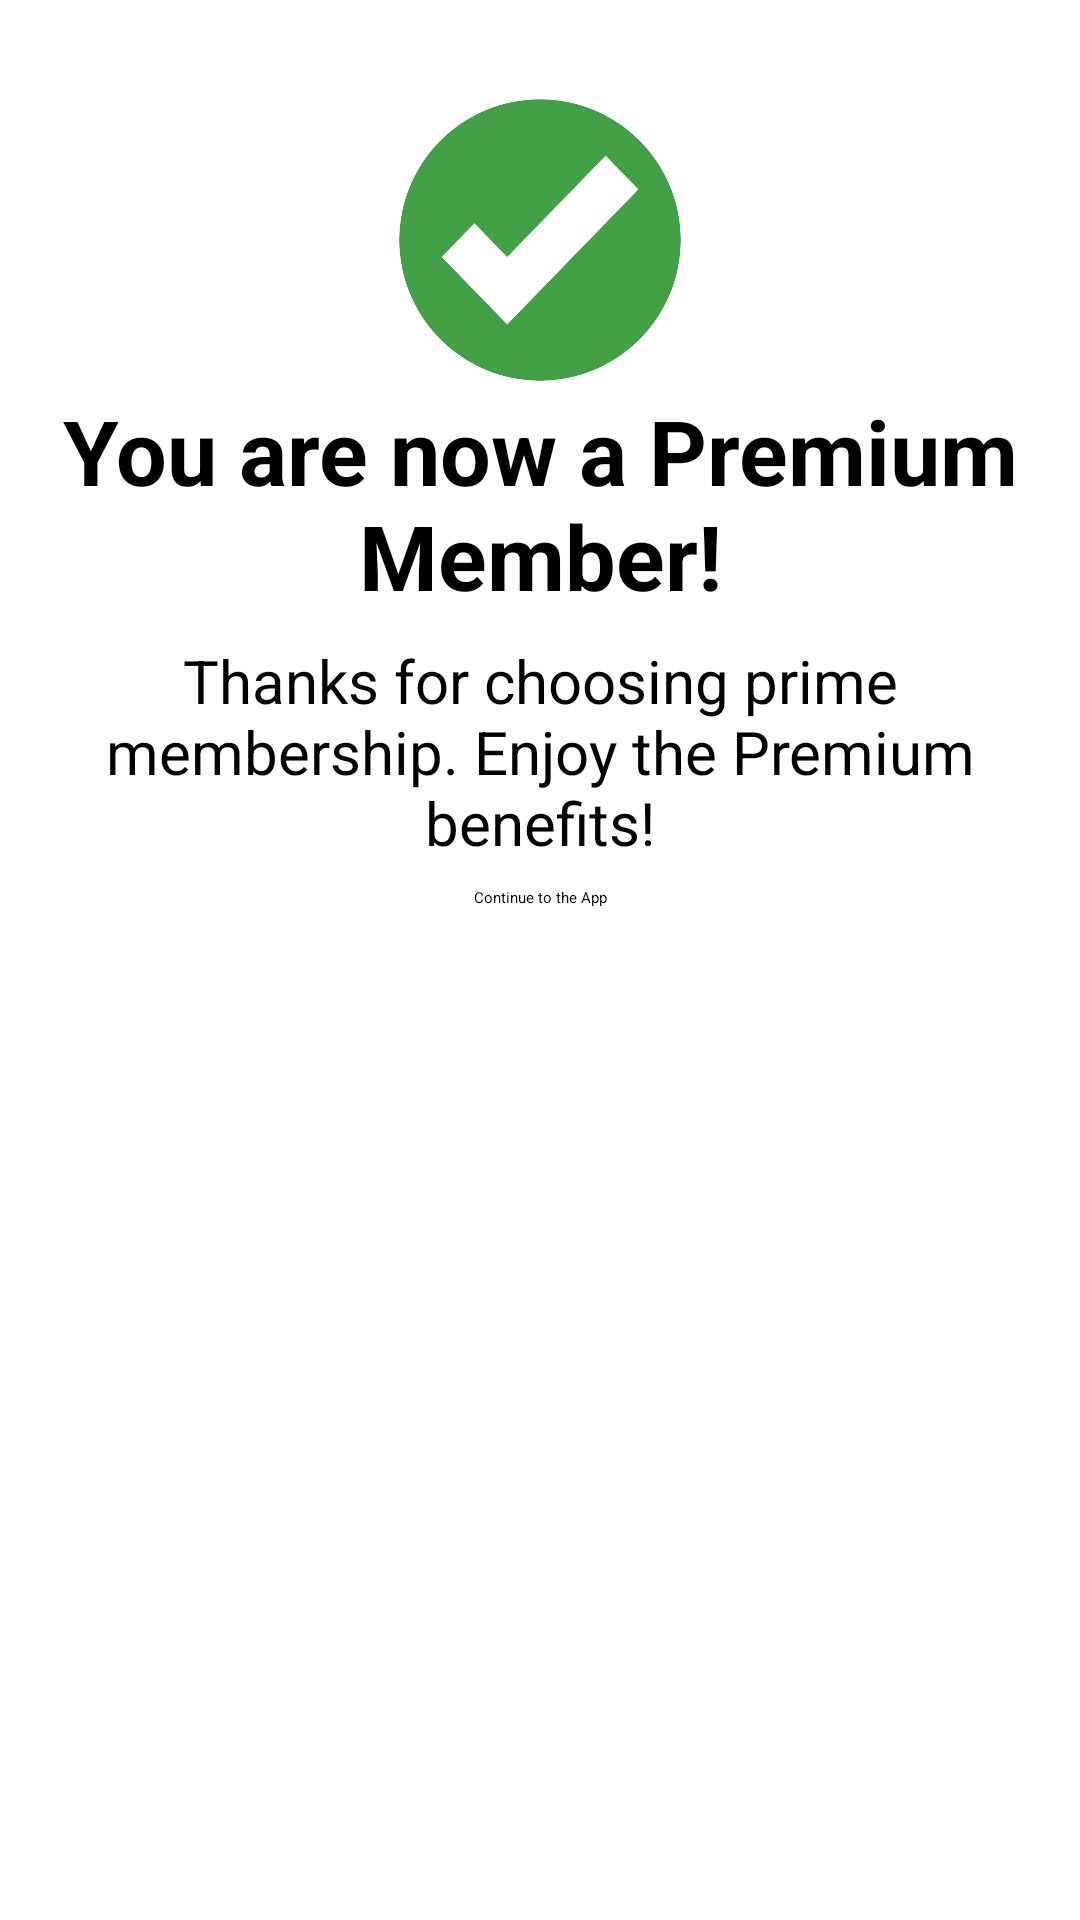

Icons on this 1080px×1920px Android screen, each with the point to tap as point (x, y):
checkmark: point (540, 240)
